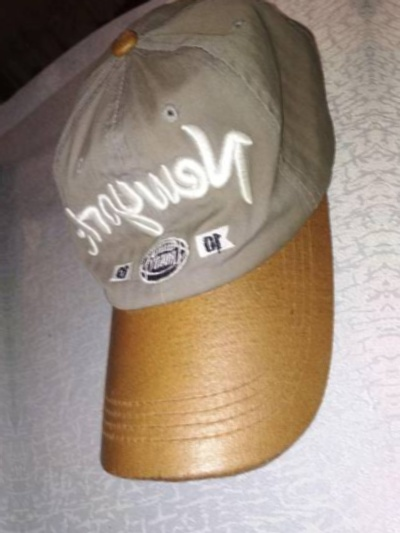Hat: (20, 0, 371, 529), (395, 0, 400, 503)
